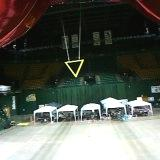Yellow_Triangle_Gshape: (64, 58, 85, 77)
